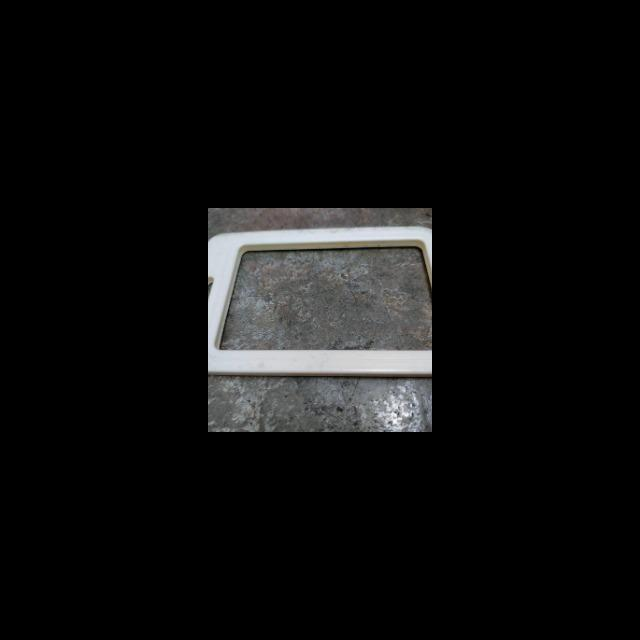plastic: (208, 218, 432, 399)
